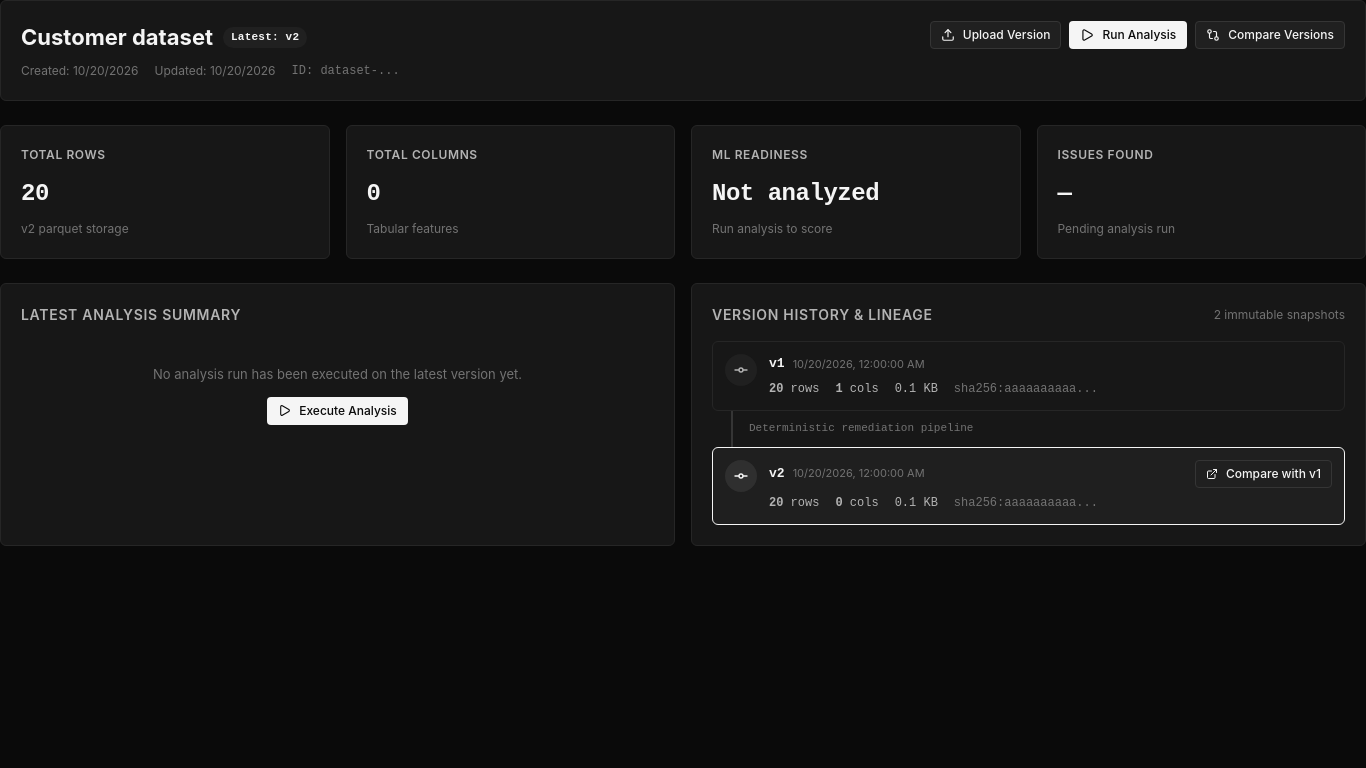
DatasetDetailPage target-aware analysis › handles missing schema with clear guidance and keeps target-free analysis available
This screenshot has width=1366, height=768.
Check: the heading "Customer dataset" is shown, box 21,21 -> 213,54
Step 1. Click the button "Run Analysis" → [1128, 35], box 1069,21 -> 1187,49
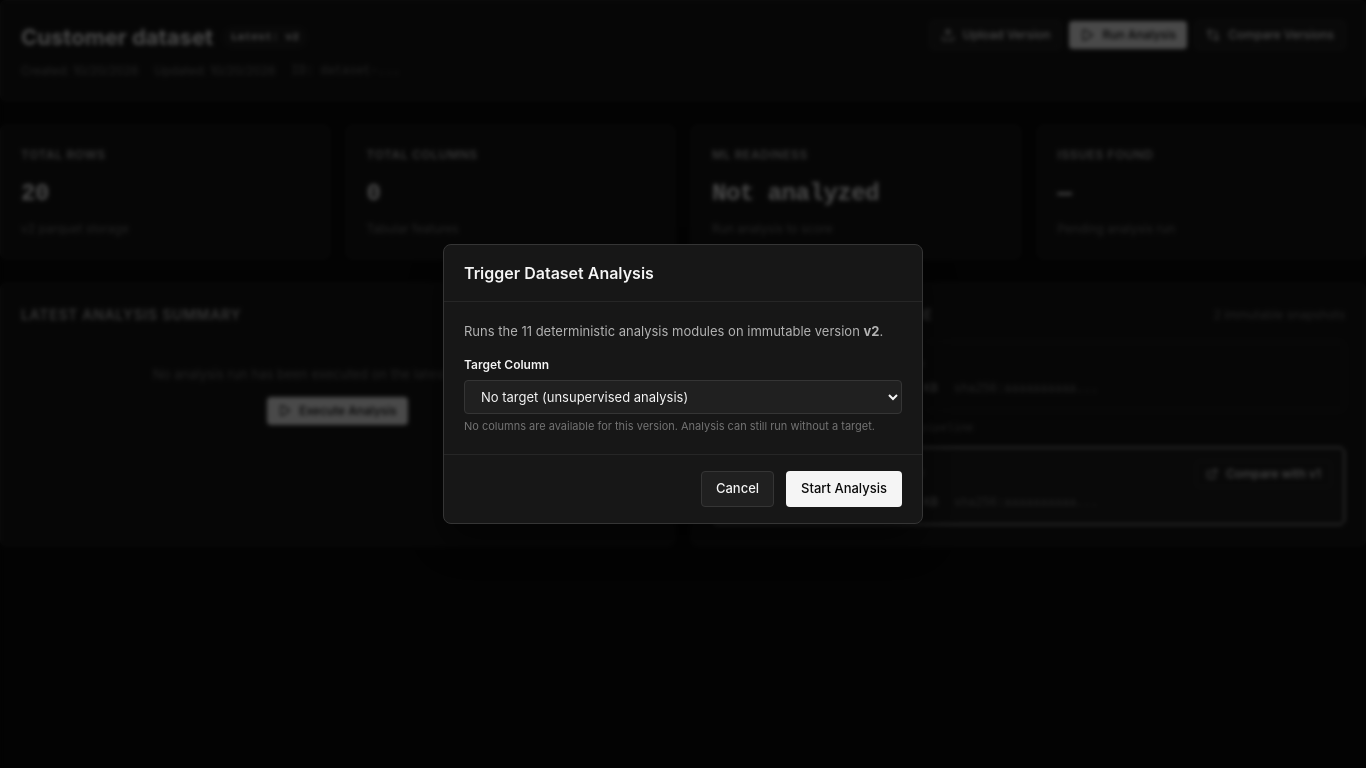
Check: the heading "Trigger Dataset Analysis" is shown, box 464,261 -> 654,285
Check: the text "No columns are available for this version" is shown, box 464,419 -> 875,433
Check: the dropdown labelled "Target Column" shows "No target (unsupervised analysis)", box 464,380 -> 902,414
